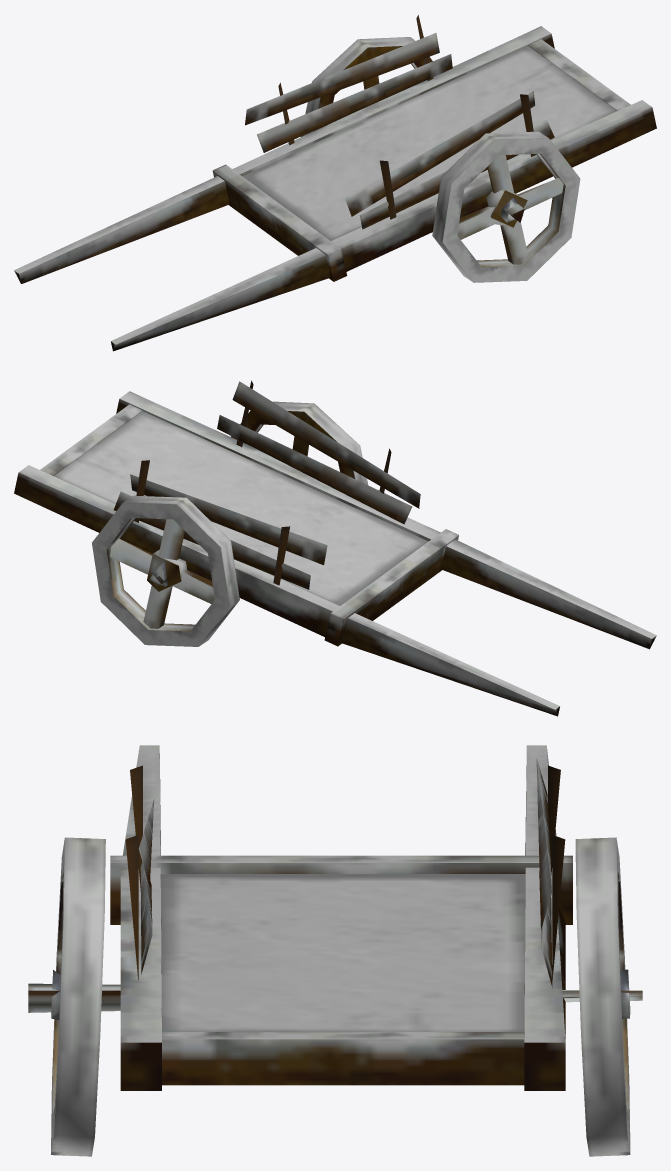
File: nsm-general_obj_21_lod_01.fbx
3 views of the same model, one above another, from view 1: azimuth 30°, elevation 25°; view 2: azimuth 150°, elevation 25°; view 3: azimuth 270°, elevation 25° (orthographic). The views are drawn at different scales.
Parts seen in each view (by area): view 1: Sphere01; view 2: Sphere01; view 3: Sphere01.
Boxes of the visible parts, x1,y1,x2,y2 form: Sphere01: [14, 15, 656, 351]; Sphere01: [14, 380, 656, 716]; Sphere01: [28, 745, 642, 1156].
Bounding box in the file's own units: 4.77 × 1.43 × 2.36.
